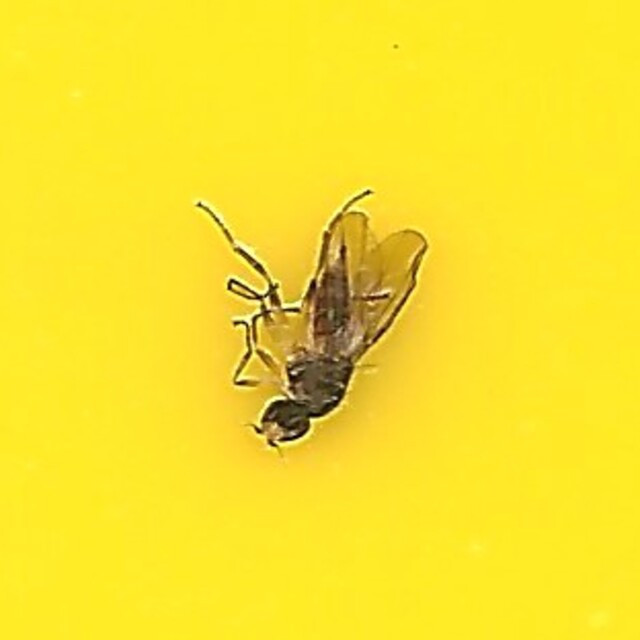Brachycera: (205, 186, 435, 454)
